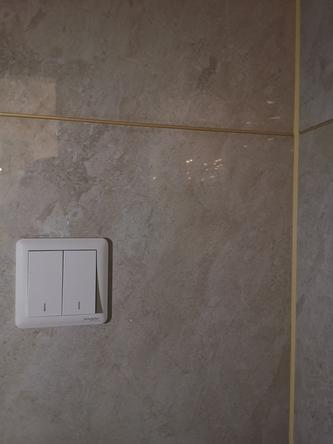switch: (59, 246, 103, 320), (24, 246, 65, 321)
